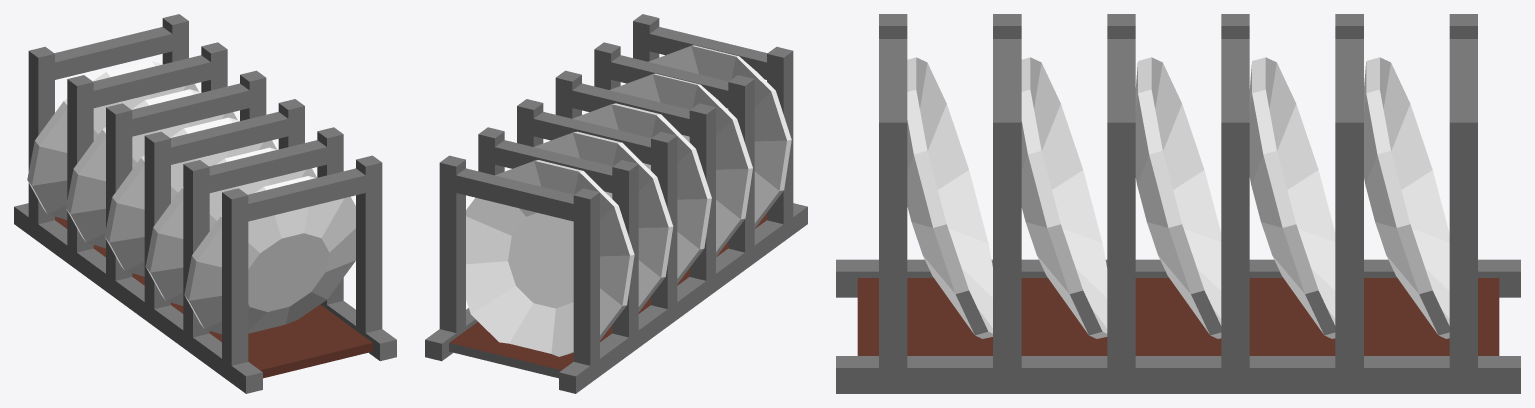
The model's file is dishes_clean.gltf.
3 views of the same model, side by side, from view 1: azimuth 30°, elevation 25°; view 2: azimuth 150°, elevation 25°; view 3: azimuth 270°, elevation 25° (orthographic). The views are drawn at different scales.
Visible parts, largest first — view 1: cuboid (×20), cylinder (×5), base; view 2: cuboid (×20), cylinder (×5), base; view 3: cuboid (×20), cylinder (×5), base.
Part boxes in pixels (bbox=[...]): cuboid (×20): bbox=[14, 14, 396, 393]; cylinder (×5): bbox=[27, 61, 355, 334]; base: bbox=[55, 216, 372, 378]; cuboid (×20): bbox=[425, 14, 807, 393]; cylinder (×5): bbox=[466, 45, 791, 356]; base: bbox=[449, 213, 766, 378]; cuboid (×20): bbox=[836, 14, 1520, 393]; cylinder (×5): bbox=[907, 57, 1449, 338]; base: bbox=[857, 278, 1499, 355].
Bounding box in the file's own units: 0.0625 × 0.0656 × 0.15.
Materials: 2 (2 with a texture image).
